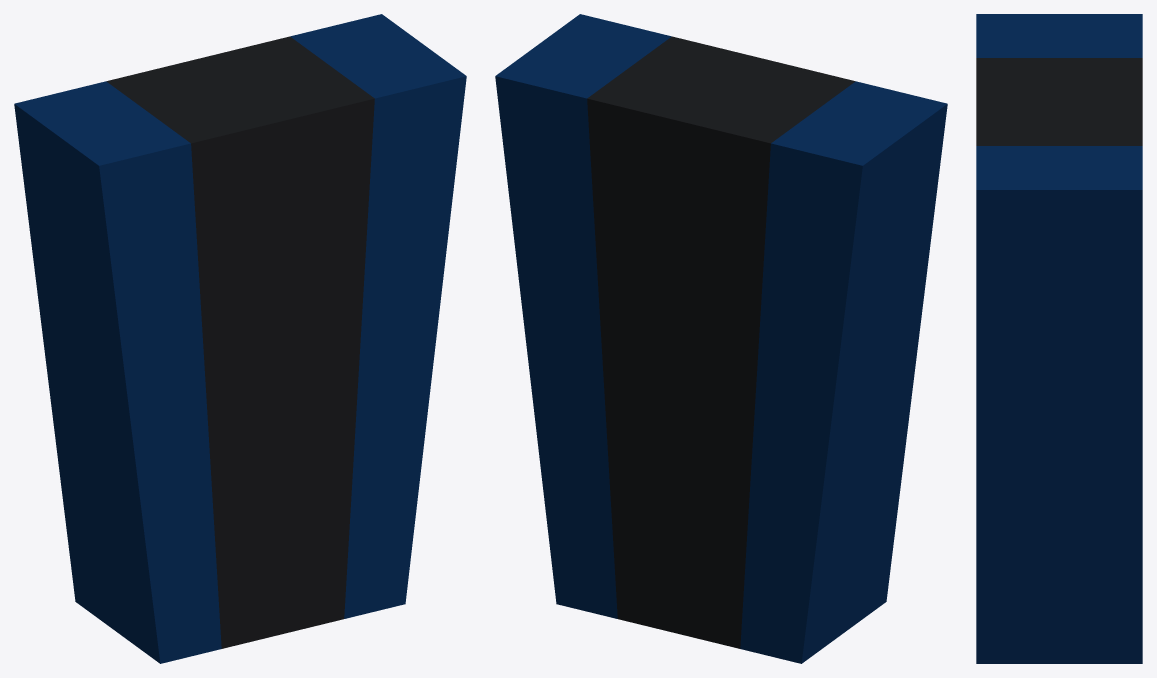
File: enemy_thinker_body.gltf
3 renders of one model, left to right at view 1: azimuth 30°, elevation 25°; view 2: azimuth 150°, elevation 25°; view 3: azimuth 270°, elevation 25°, orthographic.
Parts seen in each view (by area): view 1: enemy_thinker_body; view 2: enemy_thinker_body; view 3: enemy_thinker_body.
Part boxes in pixels (x1,y1,x2,y2): enemy_thinker_body: [14, 14, 466, 663]; enemy_thinker_body: [495, 14, 947, 663]; enemy_thinker_body: [976, 14, 1142, 663].
Size of the model in its own units: 3 by 4 by 1.2.
